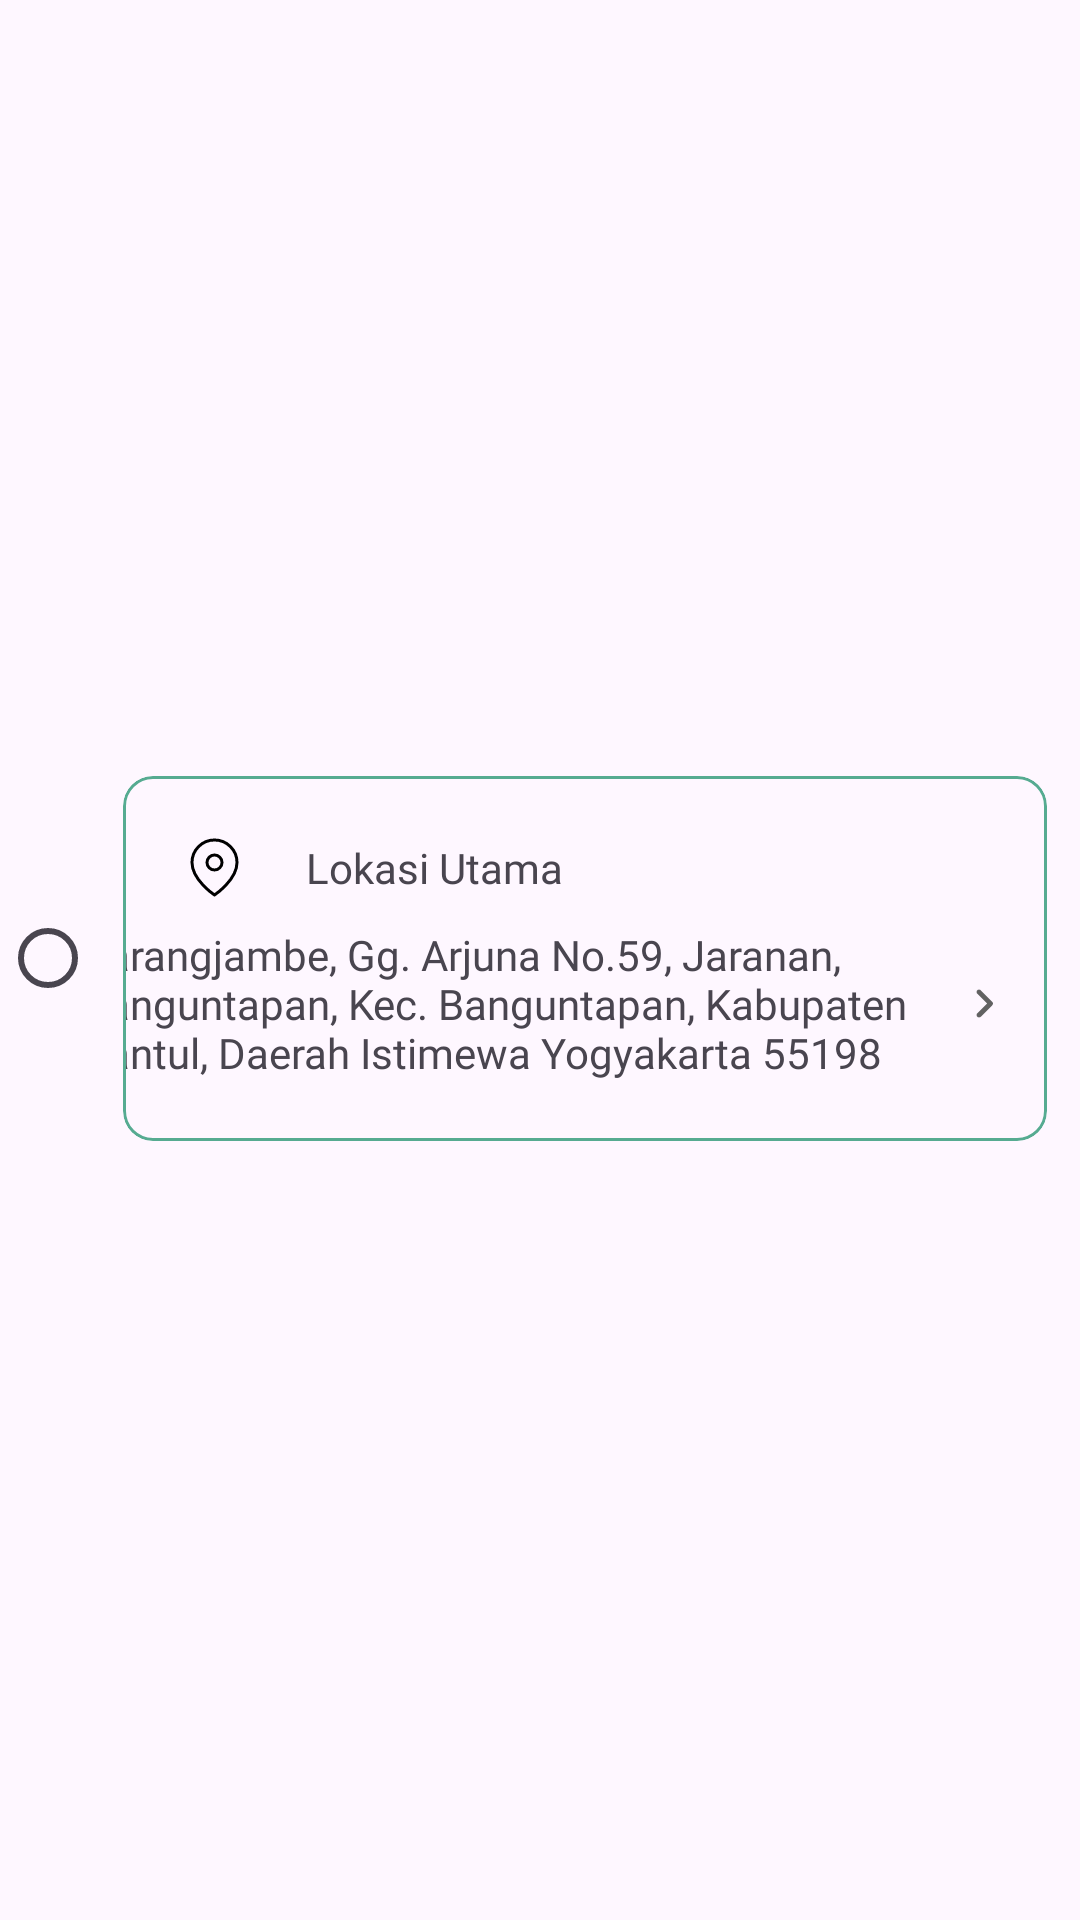

Where icons sit on this 1080w x 1920h app screen, as (x1,y1,x2,y2):
arrow forward: (976,989,993,1018)
map pin: (190,838,239,897)
